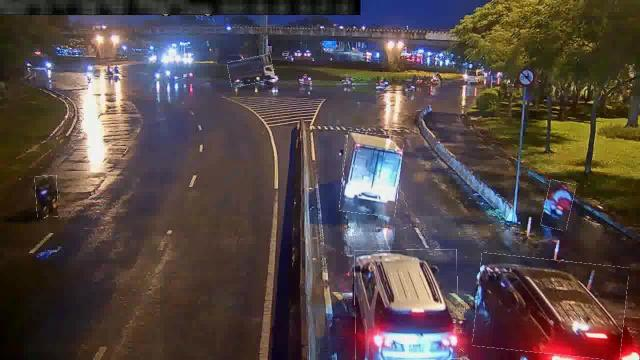Bike: (542, 182, 574, 230), (36, 175, 58, 217)
Car: (475, 257, 627, 357), (354, 250, 458, 360)
Truck: (342, 132, 402, 216), (228, 56, 274, 86)
